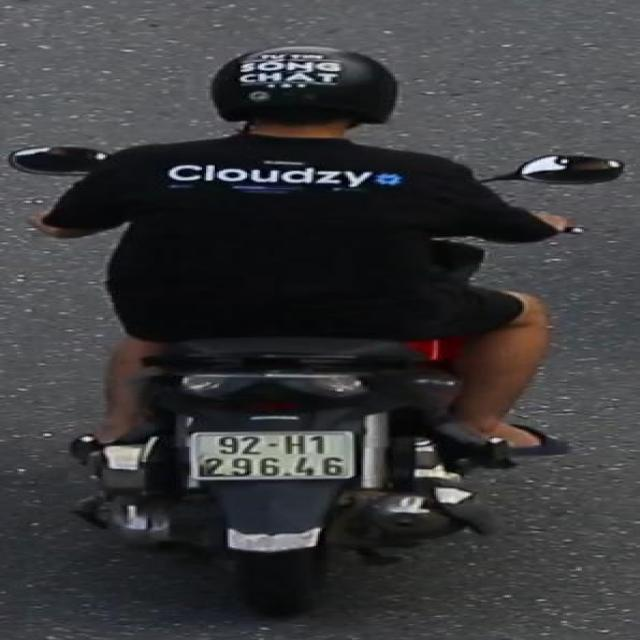LP: (183, 423, 365, 483)
helmet: (201, 39, 405, 143)
